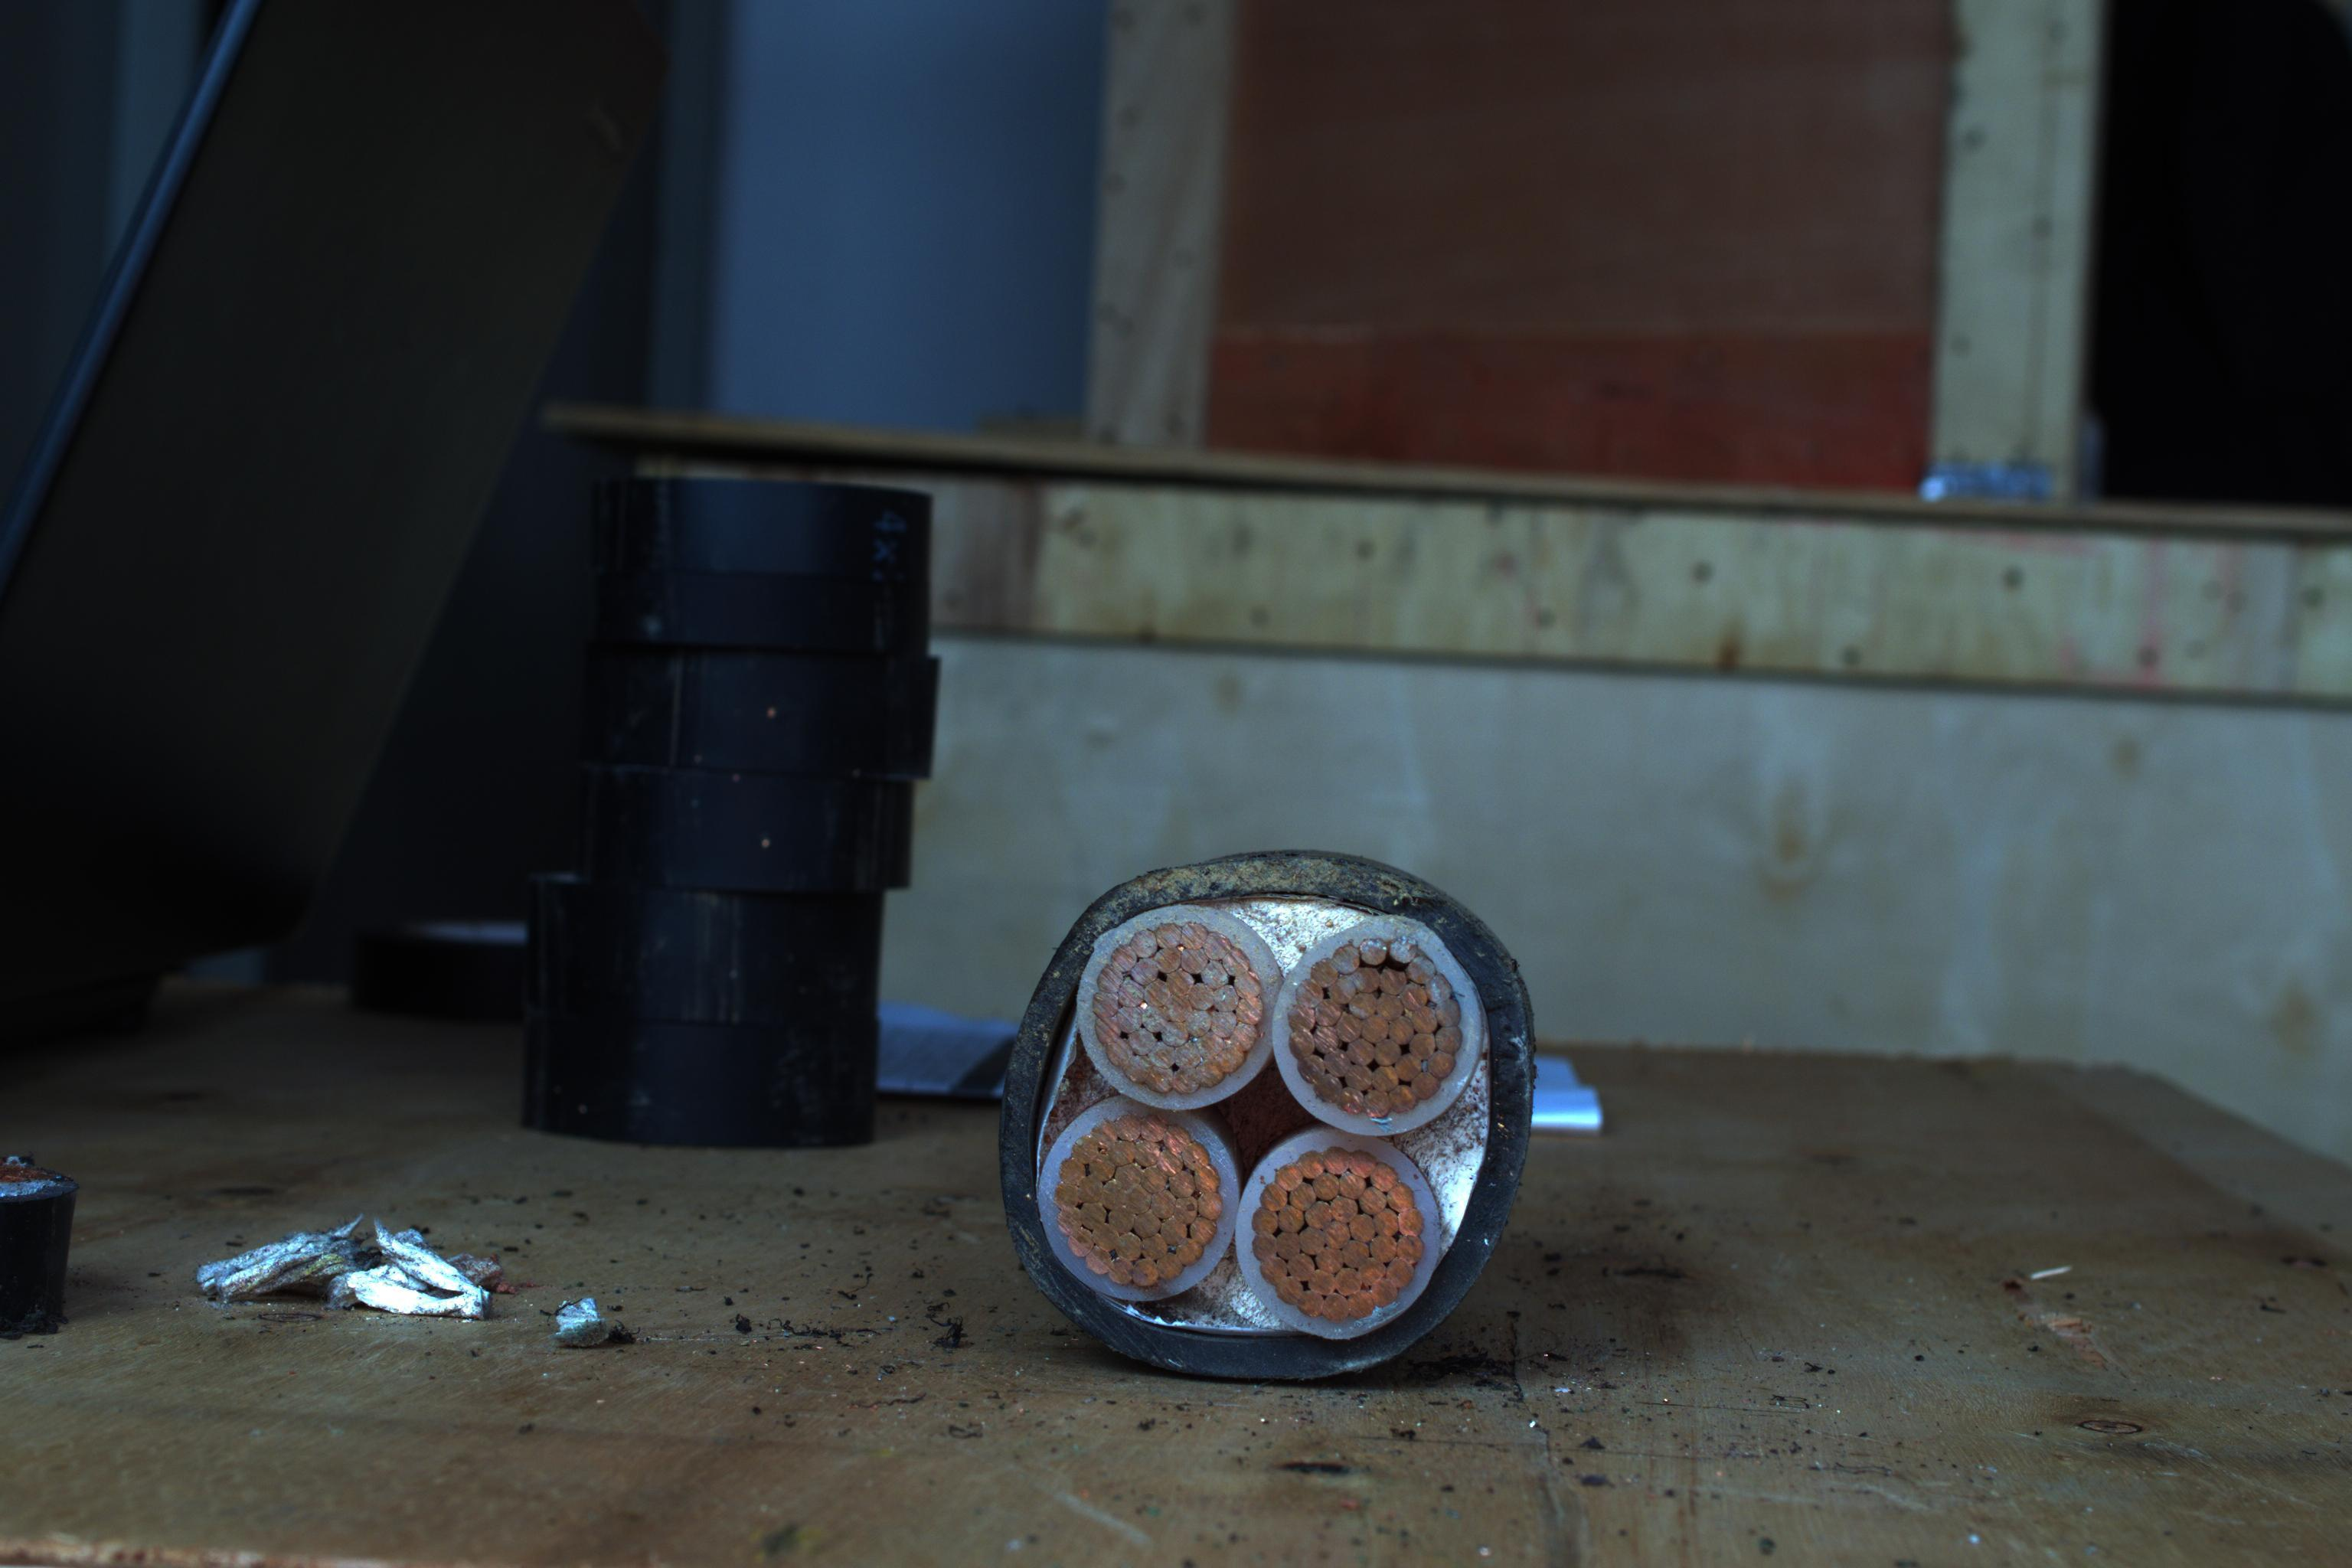YJV_0.6_1kV_4x240: (1010, 859, 1545, 1384)
